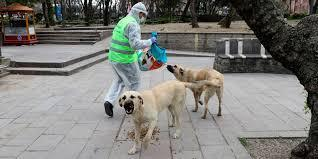dog_aggressive: (120, 81, 205, 154)
normal_dogs: (166, 62, 230, 118)
